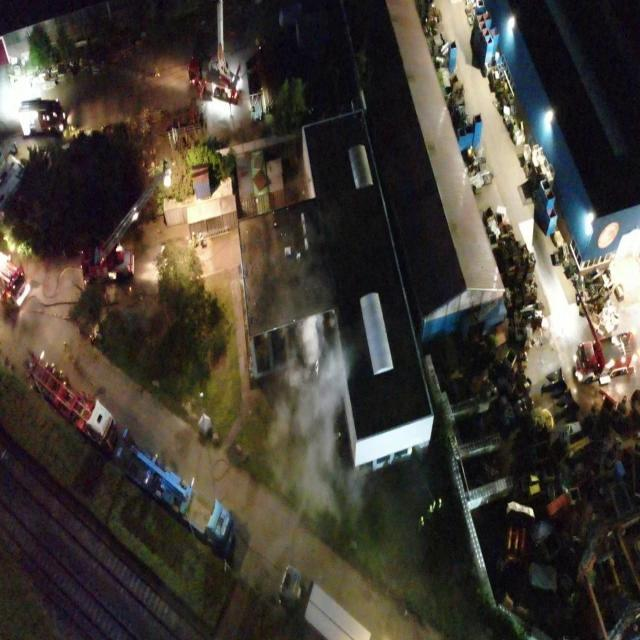Smoke: (265, 309, 363, 527)
